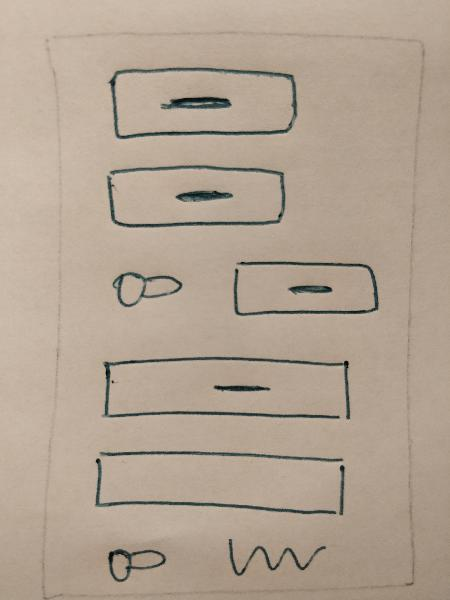button: (97, 56, 305, 150), (97, 154, 305, 248), (91, 351, 357, 424), (224, 251, 390, 320)
switch: (98, 538, 174, 587), (107, 261, 183, 310)
text: (221, 530, 332, 582)
text_input: (87, 444, 349, 521)
